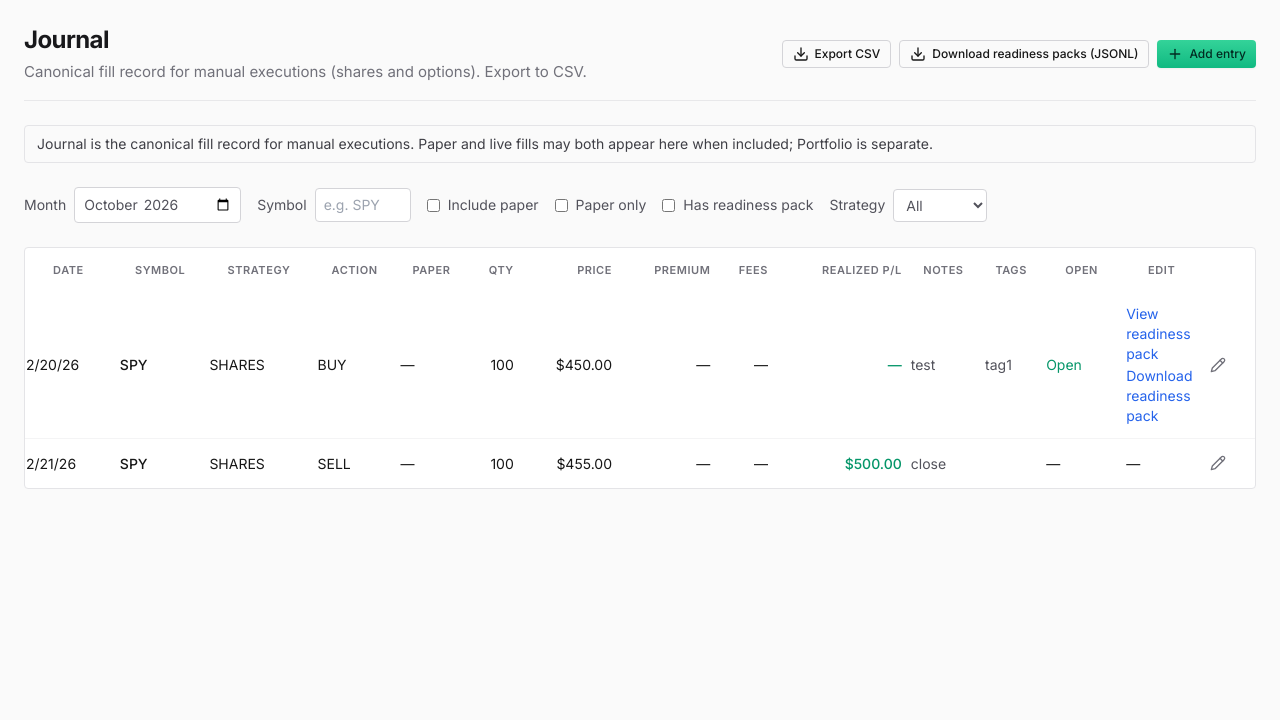
it: JournalPage › R30.4: clicking View readiness pack opens modal with summary, checks, order stub
Click the button with test id "journal-view-readiness-pack". click: (1162,334)
box: [1126,304,1197,364]
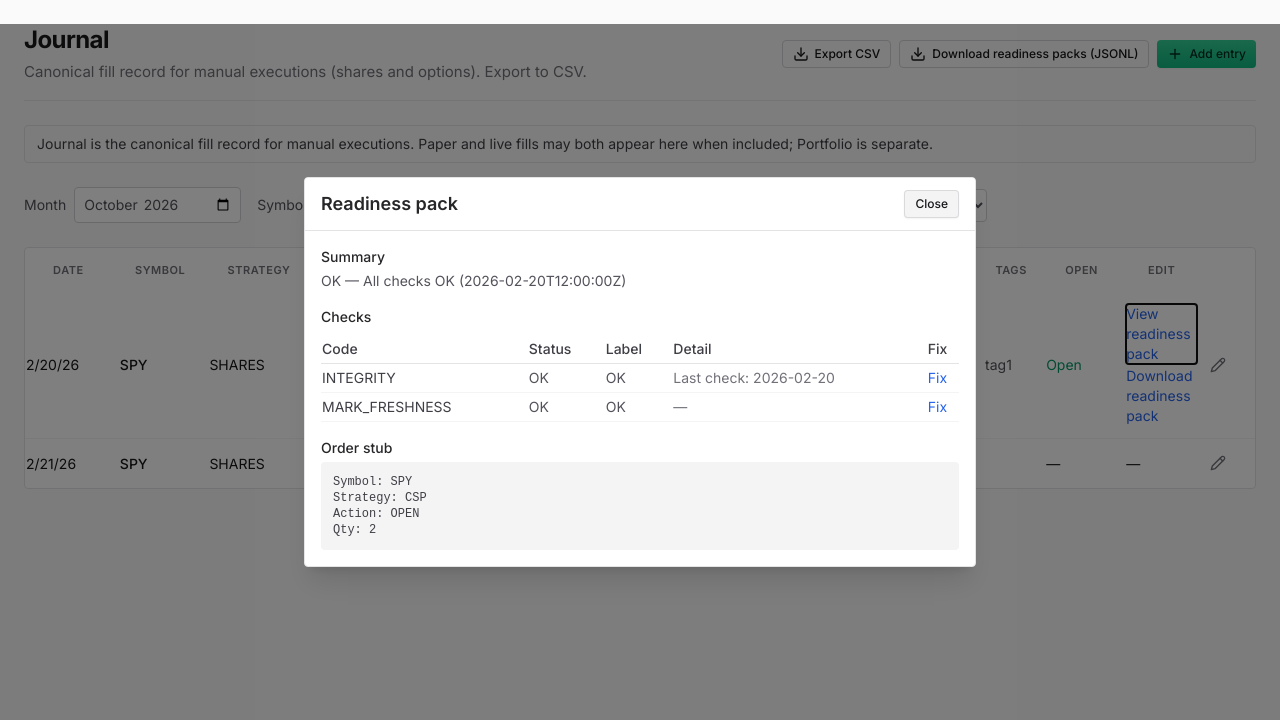
Expected: the dialog is shown
Expected: the heading "Readiness pack" is shown, [321,190,458,218]
Expected: the heading "Summary" is shown, [321,248,385,265]
